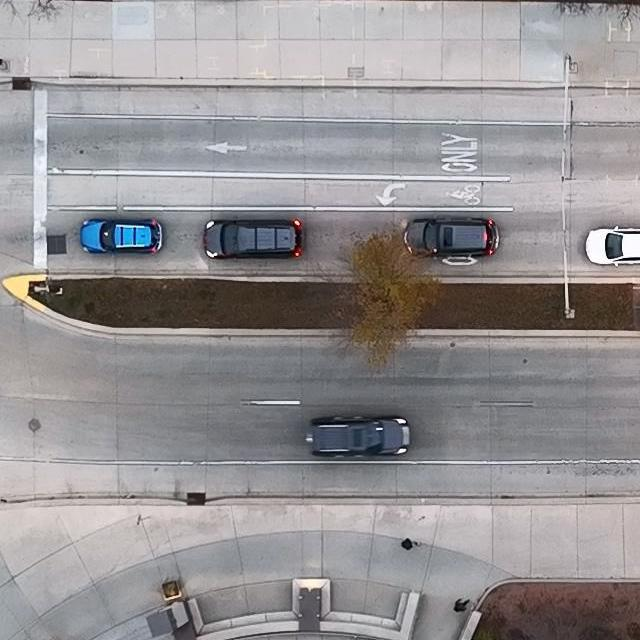car: (306, 414, 410, 459), (204, 218, 304, 260), (403, 216, 499, 258), (79, 217, 163, 256), (585, 225, 640, 268)
